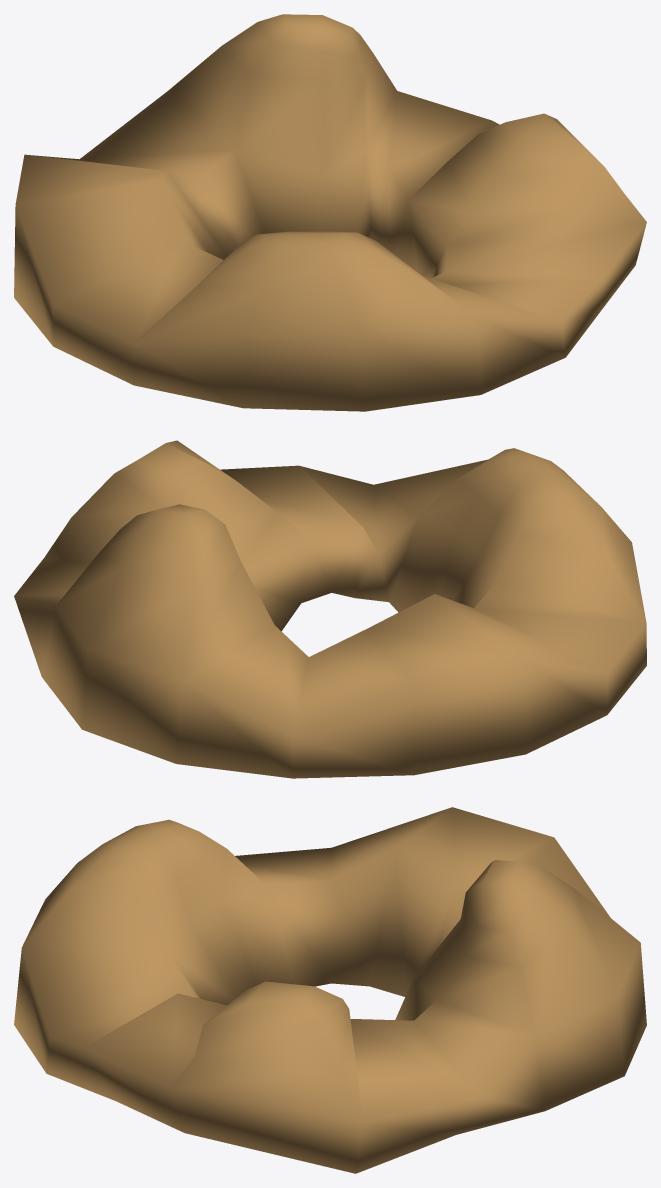
Rendered from hole.glb.
3 renders of one model, top to bottom at view 1: azimuth 30°, elevation 25°; view 2: azimuth 150°, elevation 25°; view 3: azimuth 270°, elevation 25°, orthographic.
Parts seen in each view (by area): view 1: dug_hole; view 2: dug_hole; view 3: dug_hole.
Part boxes in pixels (x1,y1,x2,y2): dug_hole: (14, 14, 646, 411); dug_hole: (14, 440, 646, 778); dug_hole: (14, 807, 646, 1173).
Bounding box in the file's own units: 1.23 × 0.4377 × 1.22.
